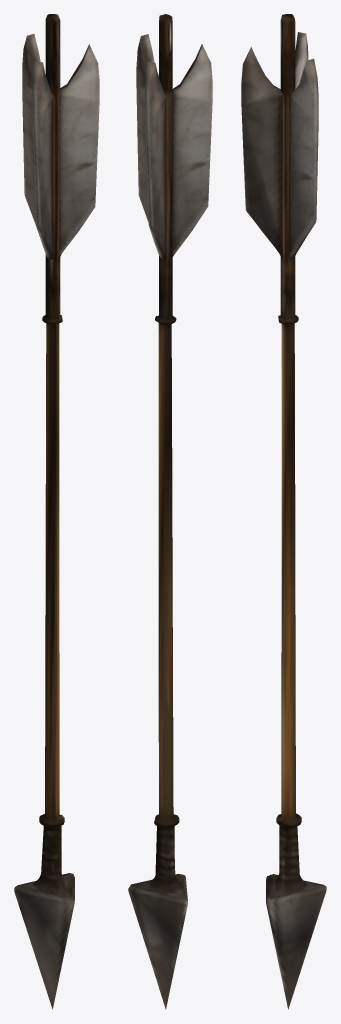
The model's file is SM_Arrow.fbx.
The picture shows the model from 3 angles, left to right: view 1: azimuth 90°, elevation 25°; view 2: azimuth 210°, elevation 25°; view 3: azimuth 270°, elevation 25°; orthographic projection.
Parts seen in each view (by area): view 1: SM_Arrow; view 2: SM_Arrow; view 3: SM_Arrow.
Boxes of the visible parts, x1=… form: SM_Arrow: x1=14, y1=14, x2=99, y2=1009; SM_Arrow: x1=128, y1=14, x2=212, y2=1009; SM_Arrow: x1=241, y1=14, x2=326, y2=1009.
Size of the model in its own units: 4.05 by 52.84 by 4.11.
